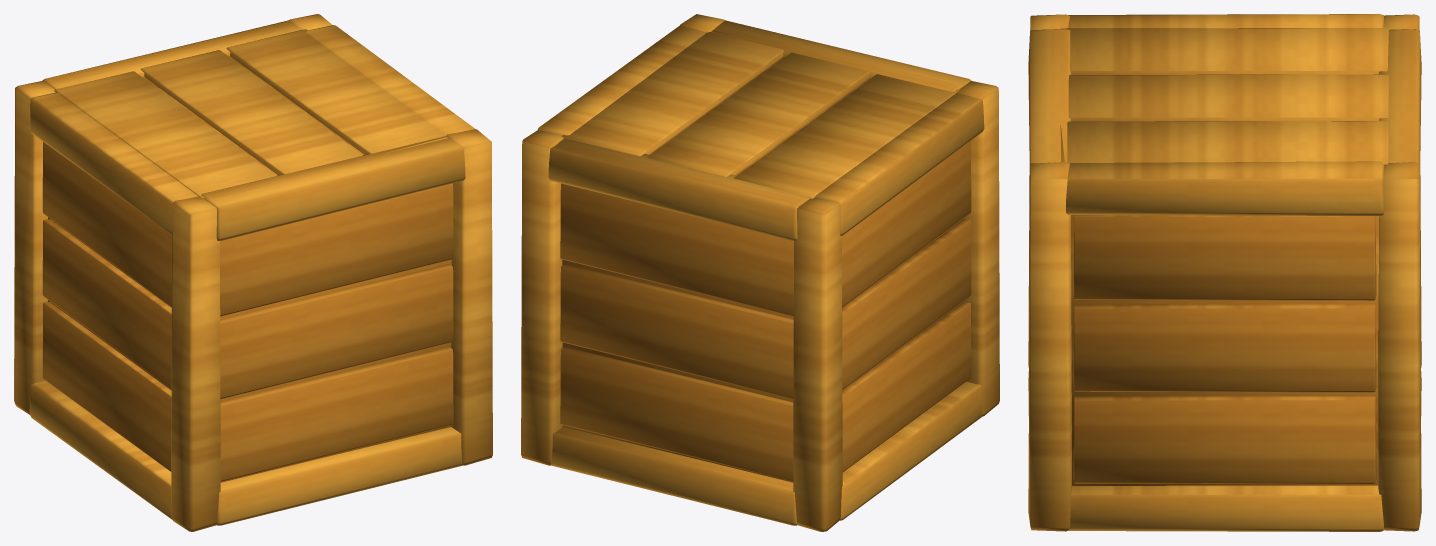
The model's file is 11_crate_gold_front.glb.
3 views of the same model, side by side, from view 1: azimuth 30°, elevation 25°; view 2: azimuth 150°, elevation 25°; view 3: azimuth 270°, elevation 25° (orthographic). The views are drawn at different scales.
Parts seen in each view (by area): view 1: SideSlatZ_1_1, SideSlatZ_0_1, SideSlatZ_2_1, CornerPost_-1_1, RailX_1_1, CornerPost_1_1, TopFlushPlank_1, TopFlushPlank_2, TopFlushPlank_0, SideSlatX_1_-1, SideSlatX_0_-1, RailX_-1_1 (+7 smaller); view 2: SideSlatZ_1_-1, SideSlatZ_0_-1, SideSlatZ_2_-1, CornerPost_-1_-1, CornerPost_1_-1, TopFlushPlank_1, RailX_1_-1, TopFlushPlank_2, TopFlushPlank_0, SideSlatX_1_-1, SideSlatX_0_-1, RailX_-1_-1 (+7 smaller); view 3: SideSlatX_1_1, SideSlatX_0_1, SideSlatX_2_1, RailZ_1_1, CornerPost_1_1, CornerPost_1_-1, TopFlushPlank_1, TopFlushPlank_0, RailZ_-1_1, TopFlushPlank_2, RailX_1_1, InnerCore (+4 smaller).
Part boxes in pixels (x1,y1,x2,y2): SideSlatZ_1_1: [220, 264, 453, 398]; SideSlatZ_0_1: [220, 346, 453, 481]; SideSlatZ_2_1: [220, 183, 453, 316]; CornerPost_-1_1: [171, 196, 220, 531]; RailX_1_1: [201, 136, 465, 240]; CornerPost_1_1: [446, 129, 492, 465]; TopFlushPlank_1: [140, 50, 362, 175]; TopFlushPlank_2: [226, 29, 448, 154]; TopFlushPlank_0: [54, 71, 276, 198]; SideSlatX_1_-1: [42, 219, 171, 389]; SideSlatX_0_-1: [42, 302, 171, 471]; RailX_-1_1: [217, 427, 463, 525]; SideSlatZ_1_-1: [560, 264, 793, 398]; SideSlatZ_0_-1: [560, 347, 793, 481]; SideSlatZ_2_-1: [560, 183, 793, 316]; CornerPost_-1_-1: [793, 197, 842, 531]; CornerPost_1_-1: [521, 130, 563, 465]; TopFlushPlank_1: [647, 52, 869, 176]; RailX_1_-1: [548, 138, 809, 240]; TopFlushPlank_2: [561, 30, 783, 156]; TopFlushPlank_0: [733, 74, 959, 198]; SideSlatX_1_-1: [842, 219, 971, 389]; SideSlatX_0_-1: [842, 301, 971, 472]; RailX_-1_-1: [550, 427, 797, 525]; SideSlatX_1_1: [1073, 304, 1376, 392]; SideSlatX_0_1: [1073, 396, 1376, 483]; SideSlatX_2_1: [1073, 215, 1376, 300]; RailZ_1_1: [1066, 161, 1384, 215]; CornerPost_1_1: [1028, 162, 1071, 531]; CornerPost_1_-1: [1378, 162, 1421, 531]; TopFlushPlank_1: [1068, 74, 1389, 121]; TopFlushPlank_0: [1061, 28, 1389, 74]; RailZ_-1_1: [1068, 485, 1383, 531]; TopFlushPlank_2: [1060, 121, 1389, 164]; RailX_1_1: [1028, 29, 1071, 196]; InnerCore: [1071, 215, 1379, 485].
Bounding box in the file's own units: 0.66 × 0.66 × 0.66.
Materials: 2 (2 with a texture image).
